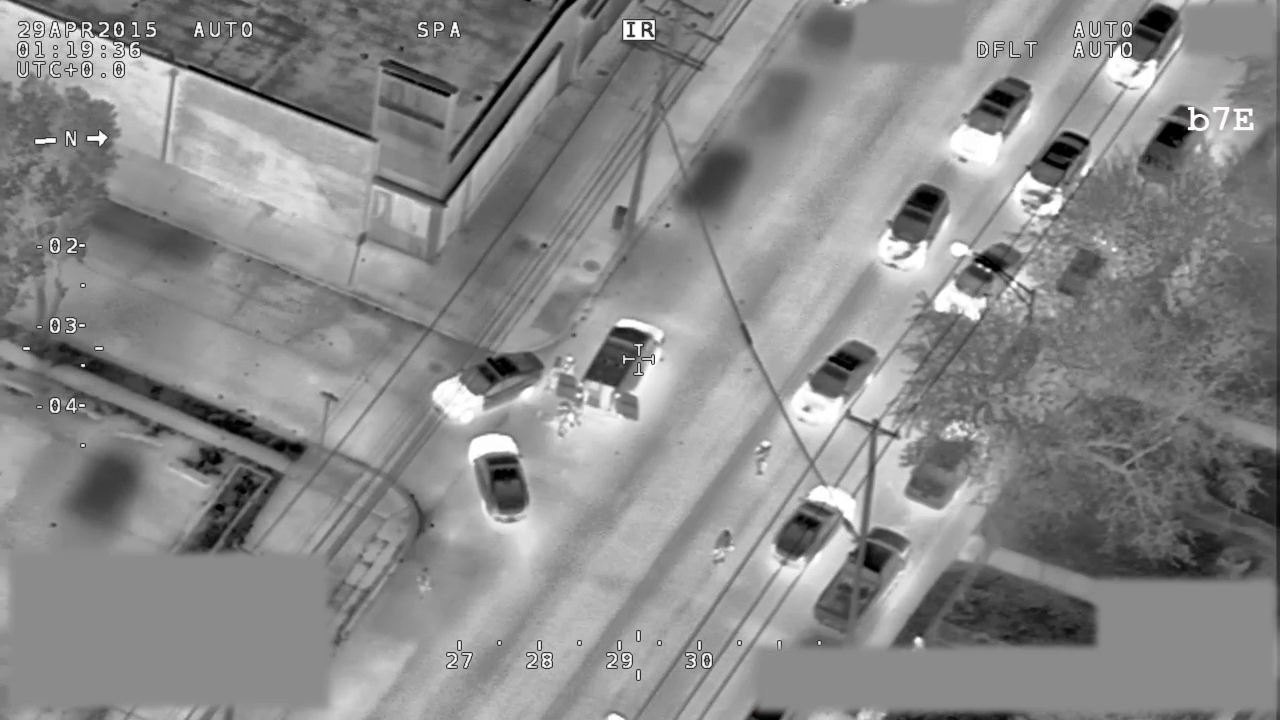vehicle: (557, 317, 675, 420), (814, 525, 913, 636), (782, 336, 883, 434), (903, 414, 996, 512), (946, 71, 1037, 169), (432, 348, 549, 424), (931, 241, 1025, 329), (768, 484, 860, 573), (1100, 2, 1186, 94), (1010, 127, 1093, 219), (875, 180, 951, 273), (1138, 100, 1210, 193), (465, 430, 536, 523)
